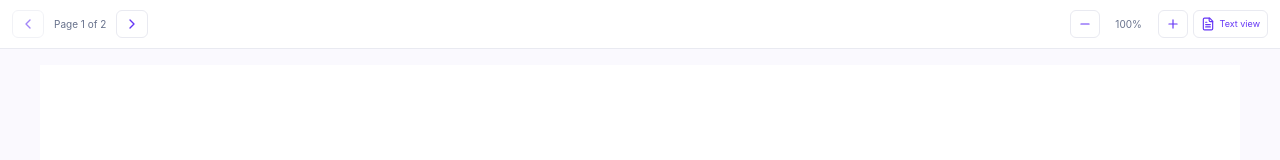
Test: renders pages, provides navigation and an accessible text view
Expected: the button named "Previous PDF page" is disabled, x1=12 y1=10 x2=44 y2=38
Click the button named "Next PDF page" at {"x": 132, "y": 24}, box x1=116 y1=10 x2=148 y2=38
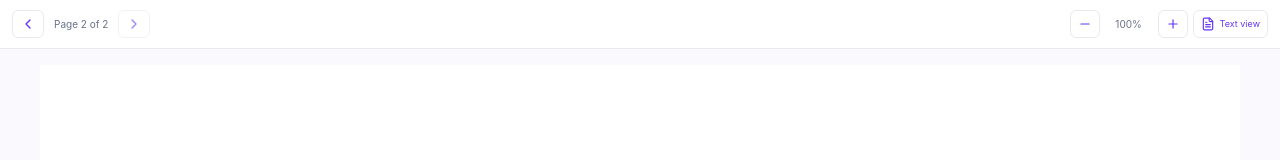
Result: the message reads "Page 2 of 2" at x1=54 y1=18 x2=108 y2=30
Click the button "Text view" at {"x": 1230, "y": 24}, box x1=1193 y1=10 x2=1268 y2=38
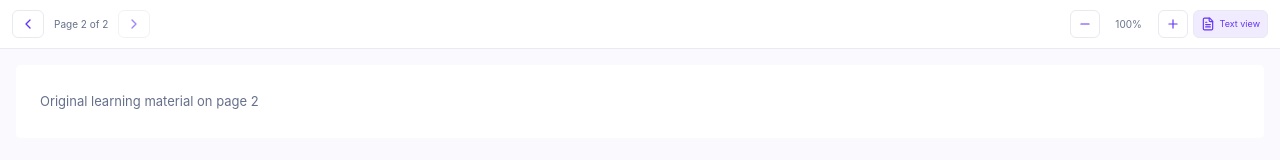
Result: the text "Original learning material on page 2" is shown at x1=16 y1=65 x2=1264 y2=138
